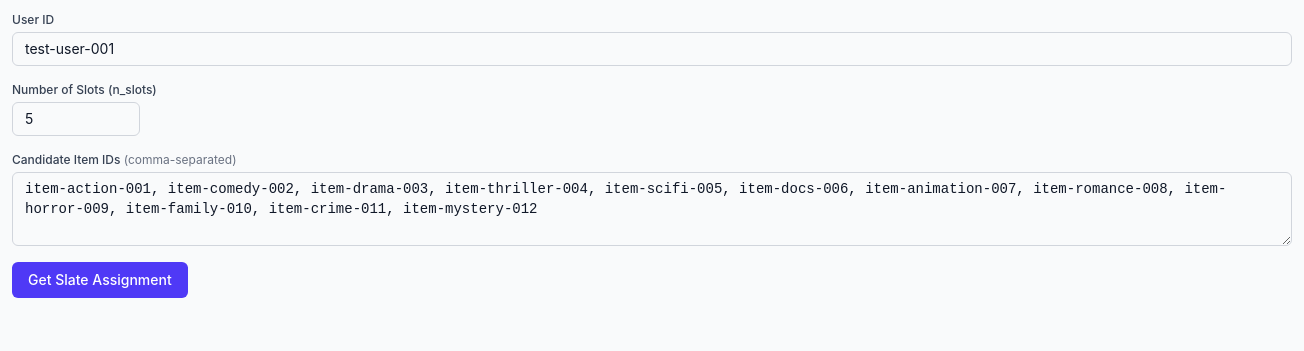
Scenario: SlateAssignmentForm › shows error when no candidates provided
Clear the text box labelled "Candidate Item IDs (comma-separated)". click: (652, 209)
box: [12,172,1292,246]
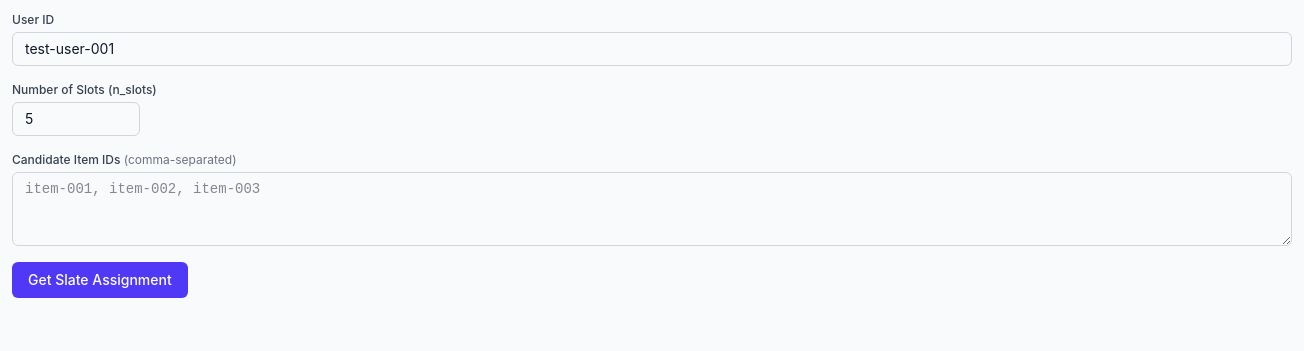
Click the button "Get Slate Assignment". click: (100, 280)
box: [12,262,188,298]
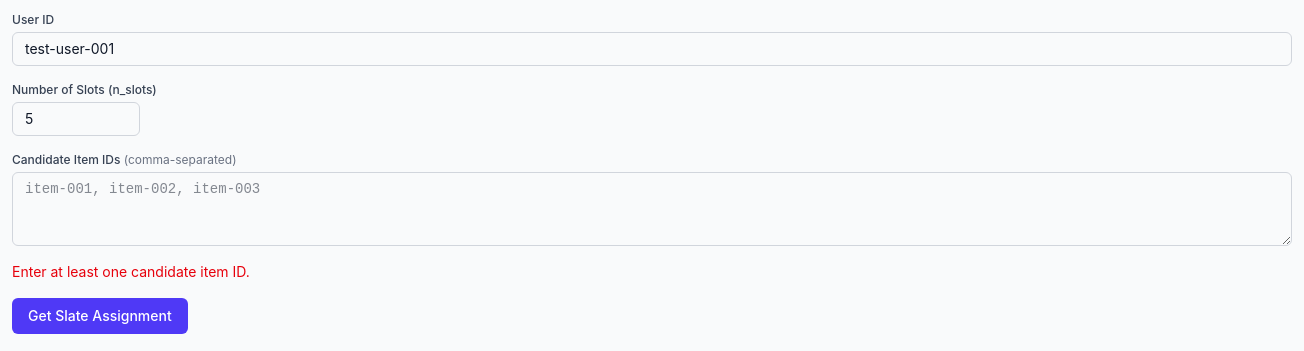
Now the message shows "at least one candidate", box [12,263,250,280]
